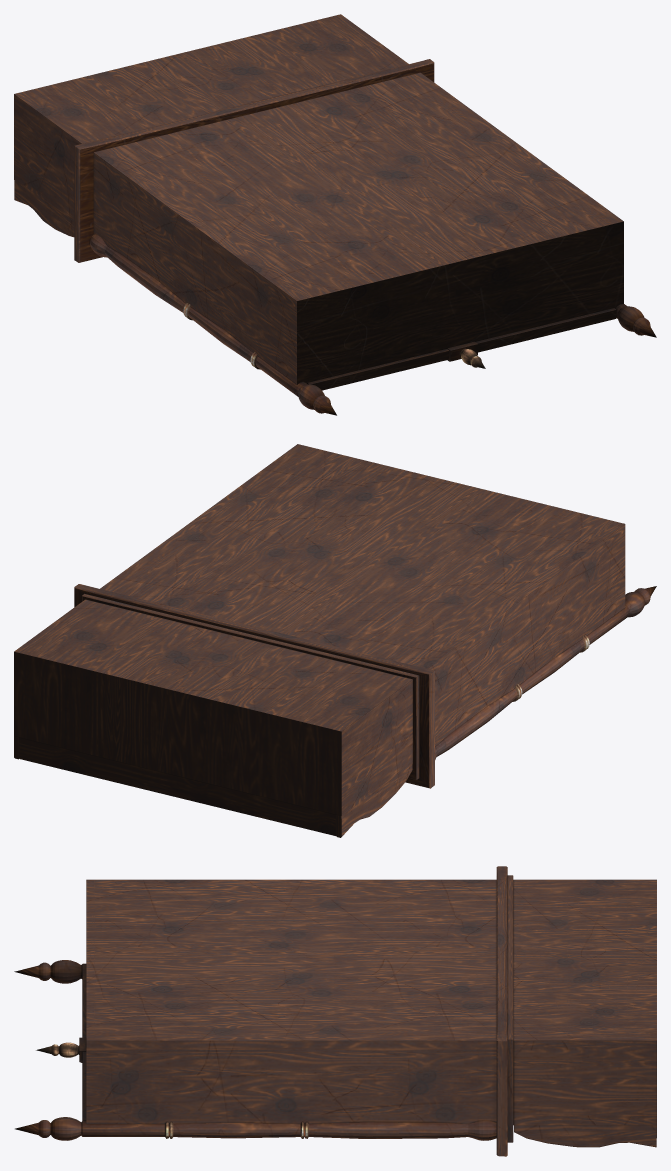
3 views of the same model, one above another, from view 1: azimuth 30°, elevation 25°; view 2: azimuth 150°, elevation 25°; view 3: azimuth 270°, elevation 25° (orthographic).
Parts seen in each view (by area): view 1: Shkaf2_Shkaf2_mtl_0; view 2: Shkaf2_Shkaf2_mtl_0; view 3: Shkaf2_Shkaf2_mtl_0.
Boxes of the visible parts, x1=… form: Shkaf2_Shkaf2_mtl_0: x1=14, y1=14, x2=656, y2=415; Shkaf2_Shkaf2_mtl_0: x1=14, y1=444, x2=656, y2=837; Shkaf2_Shkaf2_mtl_0: x1=14, y1=866, x2=656, y2=1156.
Bounding box in the file's own units: 257 × 79.03 × 399.
2 materials, 2 textured.
